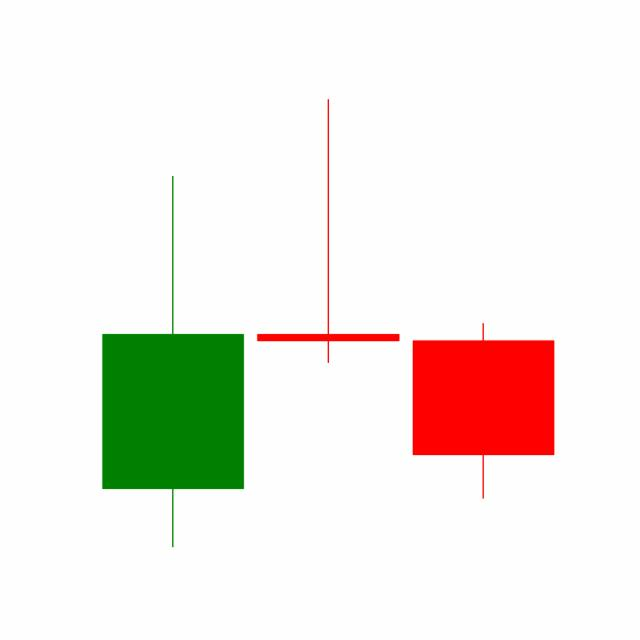Spinning Top: (249, 96, 406, 366)
